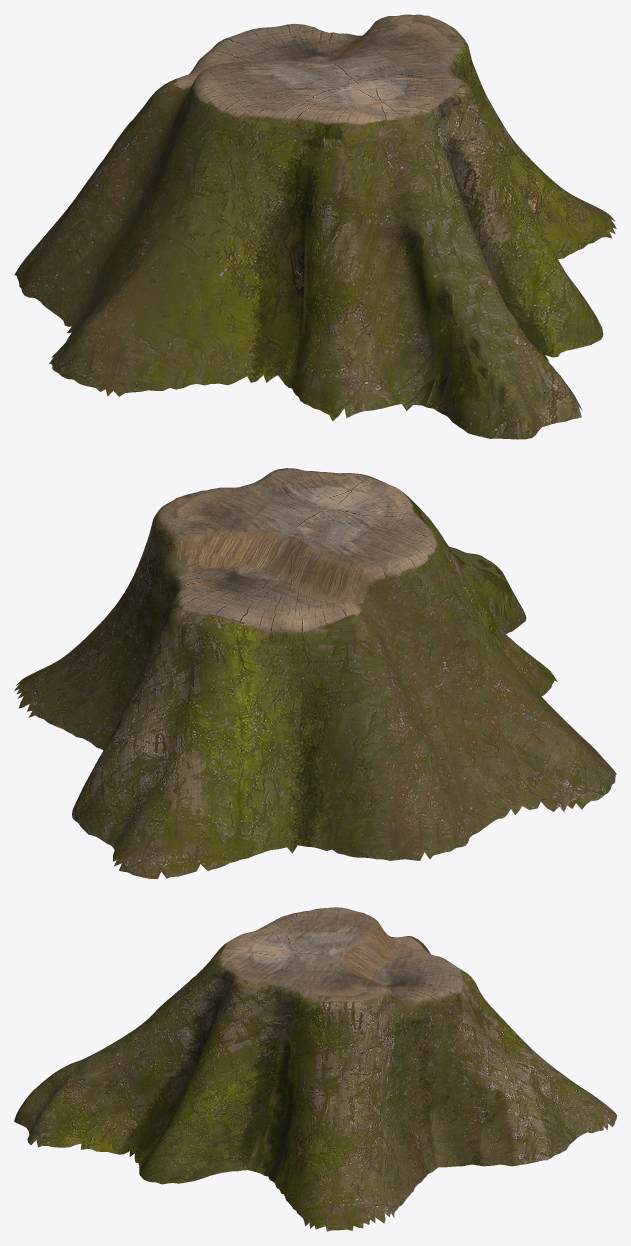
The model's file is PW_Tree_Stump_02.fbx.
3 renders of one model, top to bottom at view 1: azimuth 30°, elevation 25°; view 2: azimuth 150°, elevation 25°; view 3: azimuth 270°, elevation 25°, orthographic. The views are drawn at different scales.
Parts seen in each view (by area): view 1: PW_Tree_Stump_2_LOD0; view 2: PW_Tree_Stump_2_LOD0; view 3: PW_Tree_Stump_2_LOD0.
Boxes of the visible parts, x1,y1,x2,y2 form: PW_Tree_Stump_2_LOD0: (14,14,616,439); PW_Tree_Stump_2_LOD0: (14,468,616,878); PW_Tree_Stump_2_LOD0: (14,907,616,1231).
Size of what is drawn, in the model's own units: 132 by 50.22 by 155.
Materials: 1 (1 with a texture image).
